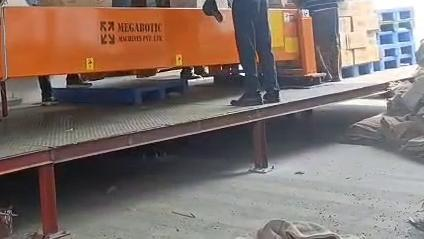box: (350, 12, 380, 32), (338, 0, 375, 15), (352, 45, 379, 64), (346, 31, 369, 49), (340, 49, 354, 67), (339, 16, 352, 33), (339, 30, 349, 49)
